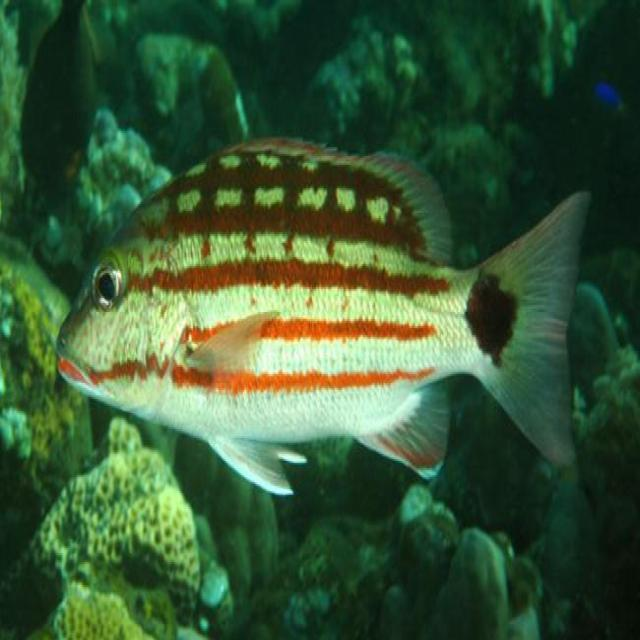ikan: (54, 133, 592, 498)
